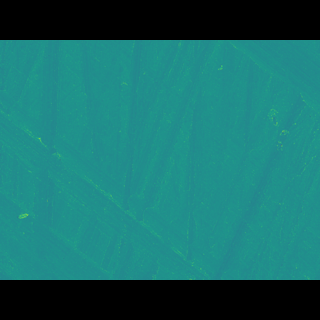Loch: (0, 108, 244, 249), (225, 69, 319, 123)
